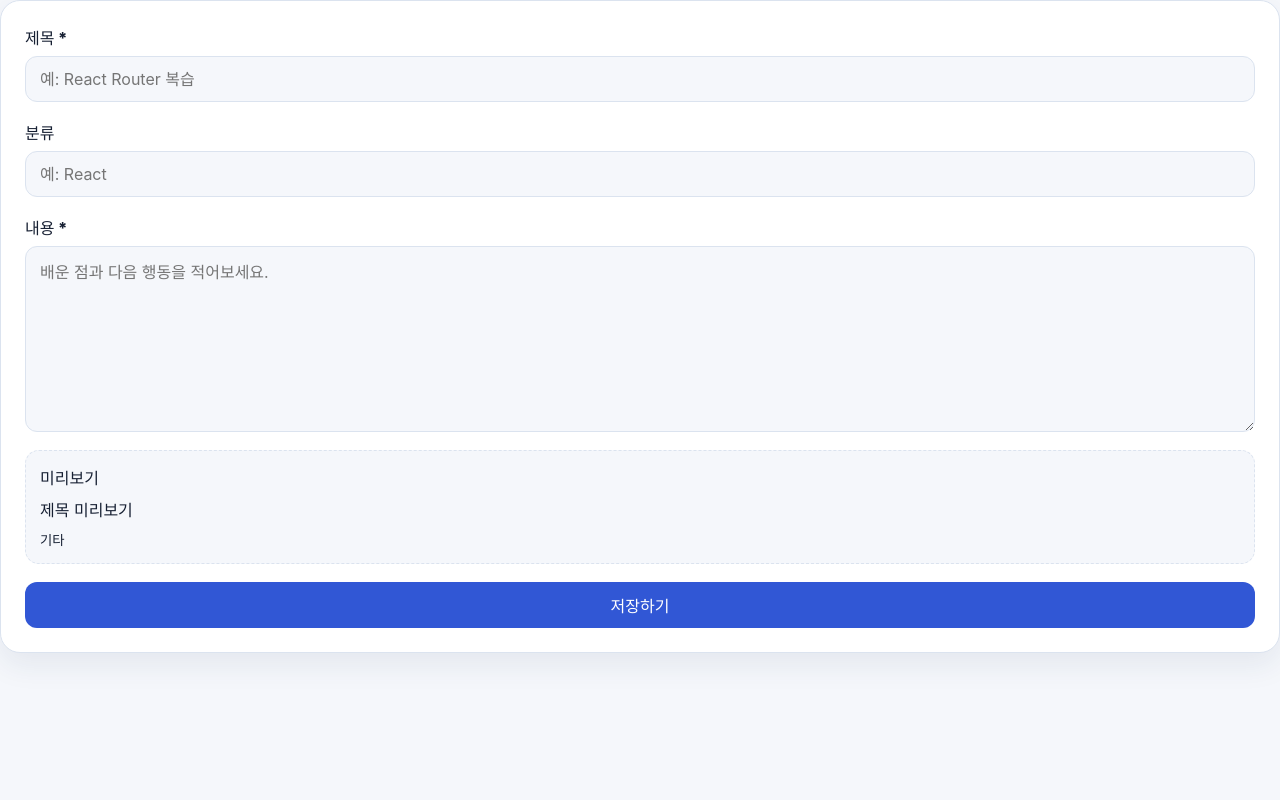
Test: ItemForm › 필수 입력이 비어 있으면 필드별 오류를 표시한다
Click the button "저장하기" at [640, 605], box [25,582,1255,628]
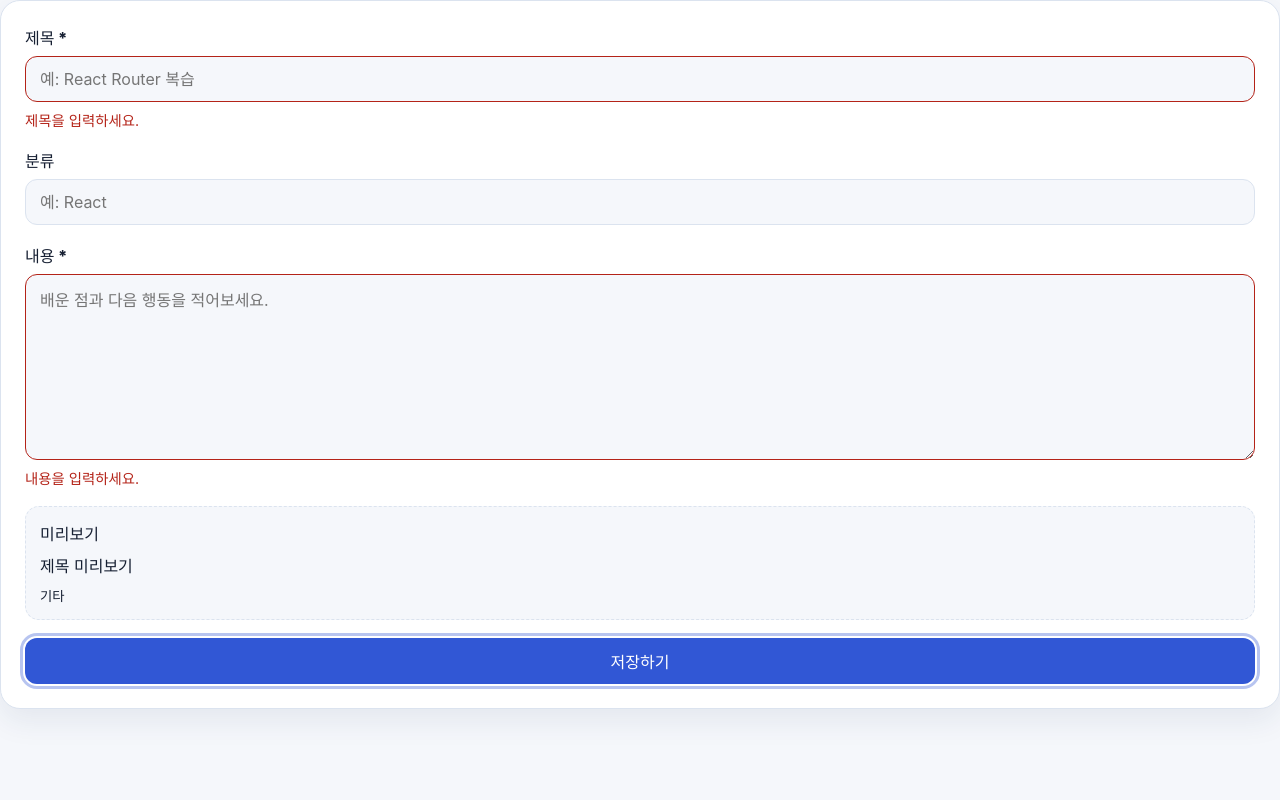
Expected: the text "제목을 입력하세요." is shown, [25,112,139,129]
Expected: the text "내용을 입력하세요." is shown, [25,470,139,487]
